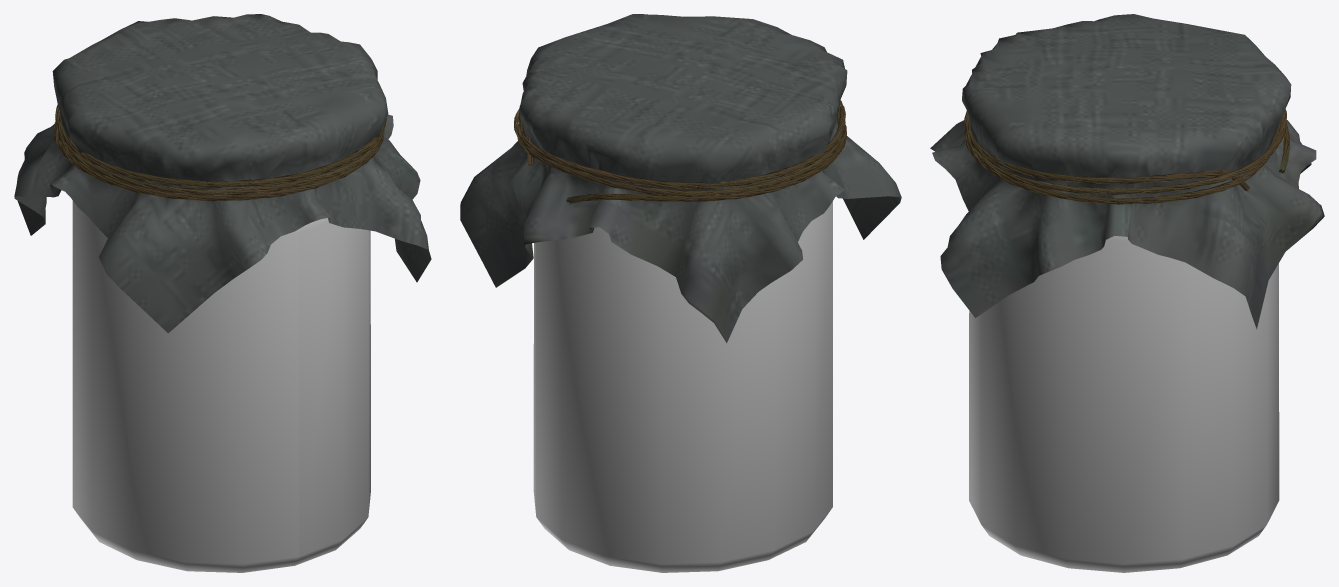
Rendered from obj_jar.glb.
3 views of the same model, side by side, from view 1: azimuth 30°, elevation 25°; view 2: azimuth 150°, elevation 25°; view 3: azimuth 270°, elevation 25° (orthographic).
Parts seen in each view (by area): view 1: Object_2; view 2: Object_2; view 3: Object_2.
Part boxes in pixels (x1=…): Object_2: x1=14, y1=14, x2=431, y2=572; Object_2: x1=460, y1=14, x2=901, y2=572; Object_2: x1=930, y1=14, x2=1324, y2=572.
Bounding box in the file's own units: 0.1424 × 0.18 × 0.146.
3 materials, 2 textured.
